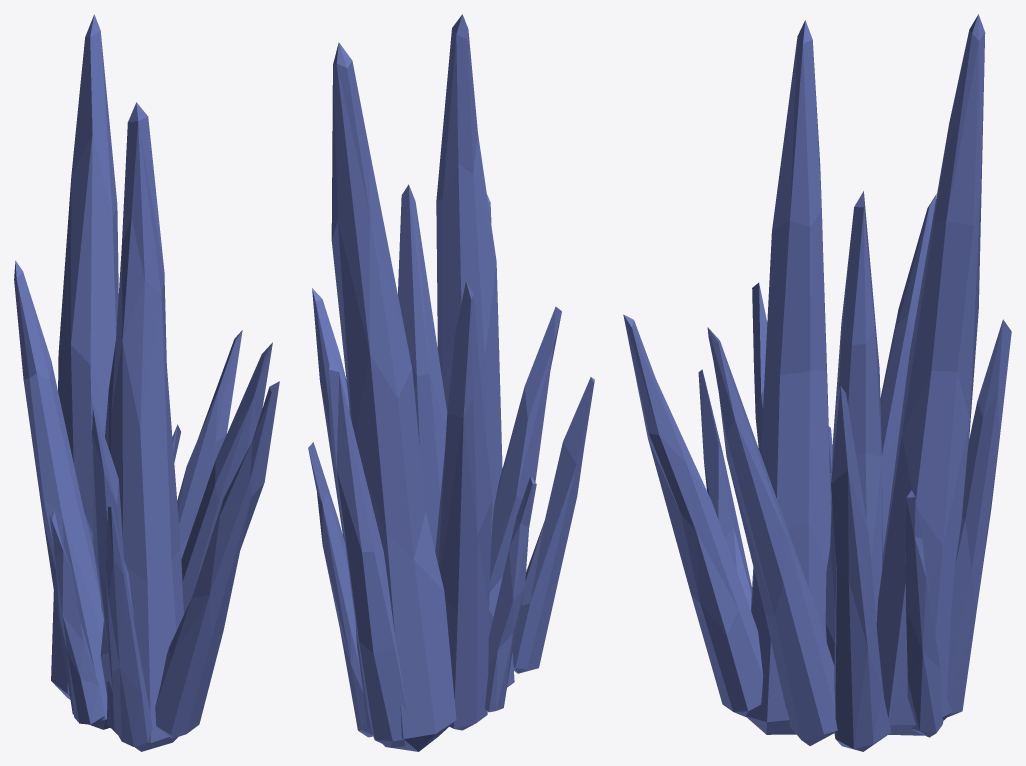
Rendered from coral_5.glb.
3 renders of one model, left to right at view 1: azimuth 30°, elevation 25°; view 2: azimuth 150°, elevation 25°; view 3: azimuth 270°, elevation 25°, orthographic. The views are drawn at different scales.
Parts seen in each view (by area): view 1: Coral.005; view 2: Coral.005; view 3: Coral.005.
Boxes of the visible parts, x1,y1,x2,y2 form: Coral.005: (14, 14, 279, 751); Coral.005: (308, 14, 594, 751); Coral.005: (623, 14, 1011, 751).
Bounding box in the file's own units: 21.48 × 68.1 × 32.71.
